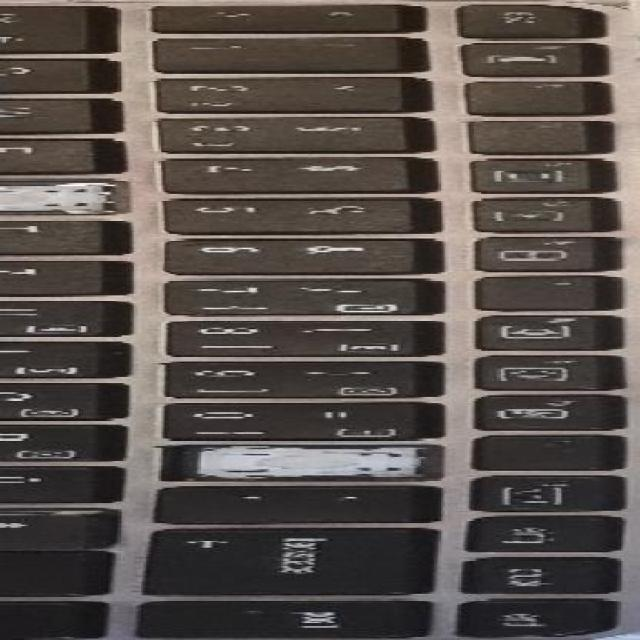Keyboard problems: (163, 445, 443, 480), (0, 182, 128, 214)
